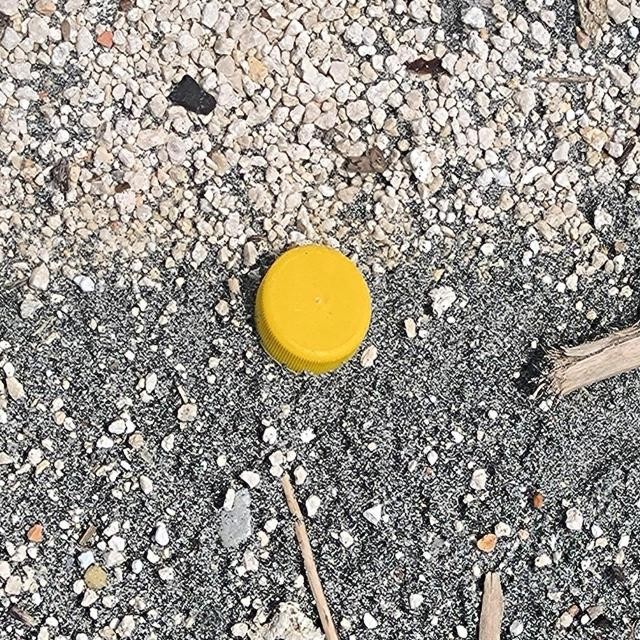plastic_waste: (253, 244, 374, 376)
